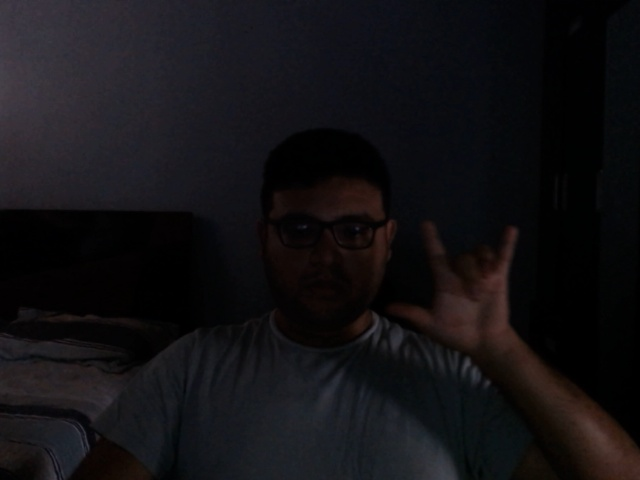I love you: (380, 204, 526, 370)
